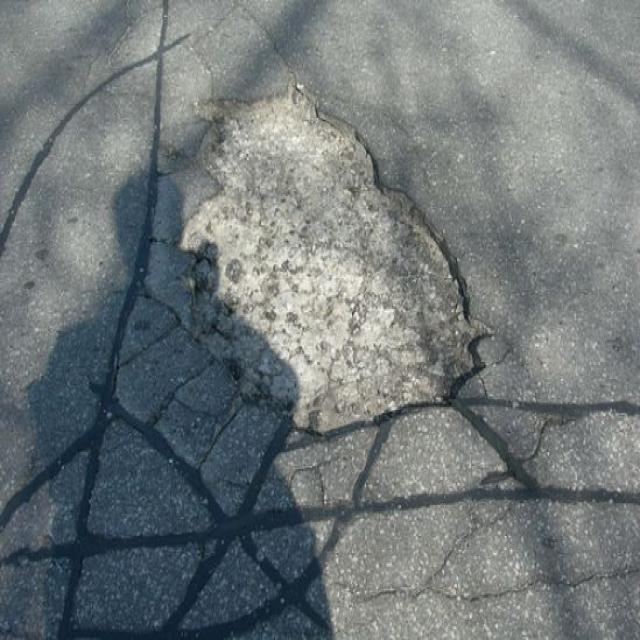pothole: (172, 79, 494, 443)
